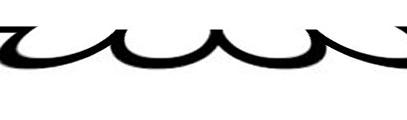inductor: (0, 20, 400, 90)
